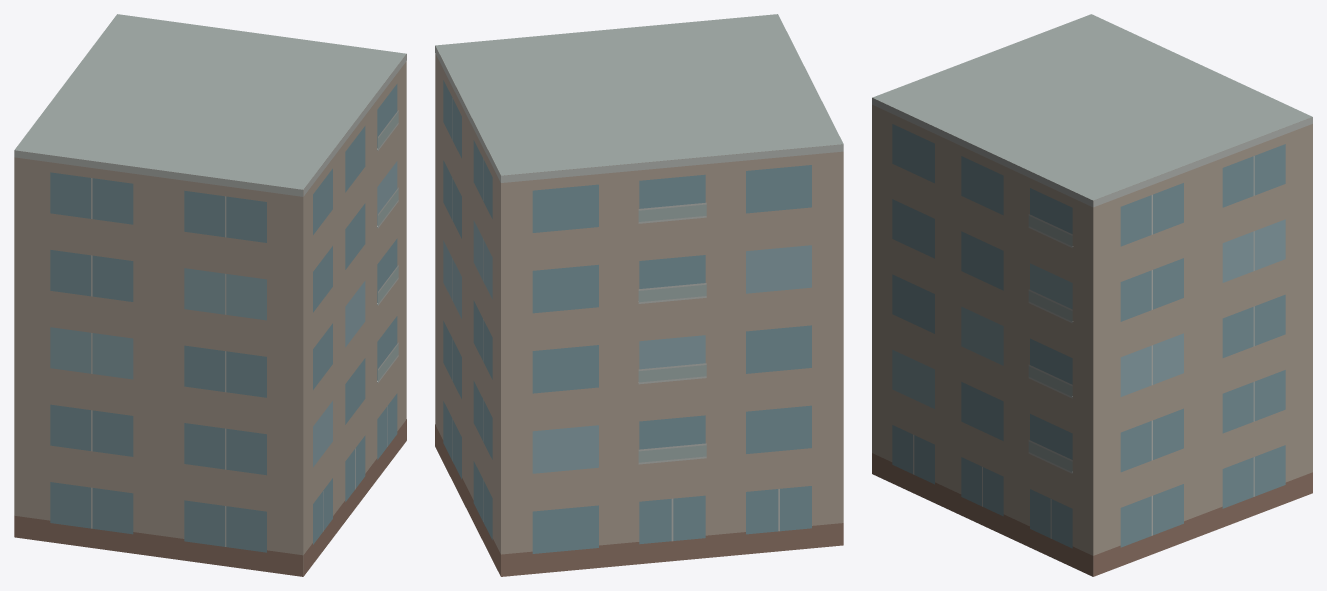
The model's file is survey-upis-32833410.glb.
The picture shows the model from 3 angles, left to right: view 1: azimuth 30°, elevation 25°; view 2: azimuth 150°, elevation 25°; view 3: azimuth 270°, elevation 25°; orthographic projection. The views are drawn at different scales.
Parts seen in each view (by area): view 1: survey-upis-32833410.tmp; view 2: survey-upis-32833410.tmp; view 3: survey-upis-32833410.tmp.
Part boxes in pixels (x1=…): survey-upis-32833410.tmp: x1=14, y1=14, x2=406, y2=576; survey-upis-32833410.tmp: x1=435, y1=14, x2=843, y2=576; survey-upis-32833410.tmp: x1=872, y1=14, x2=1312, y2=576.
Bounding box in the file's own units: 14.15 × 13.3 × 14.13.
